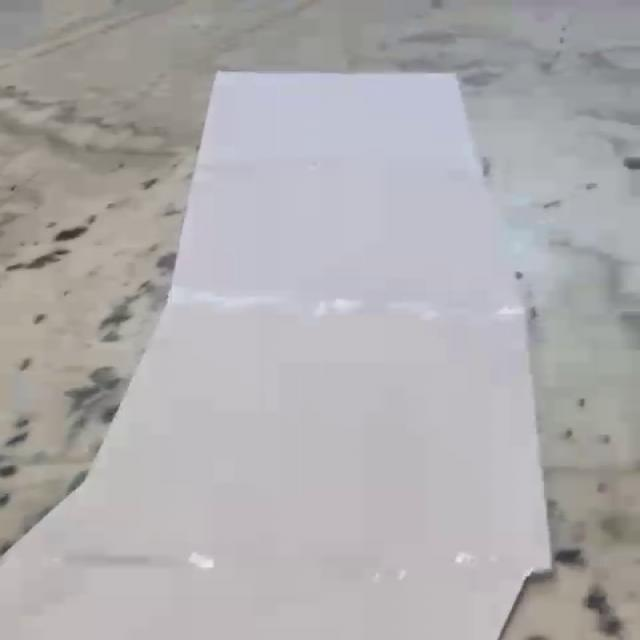road: (0, 71, 552, 640)
